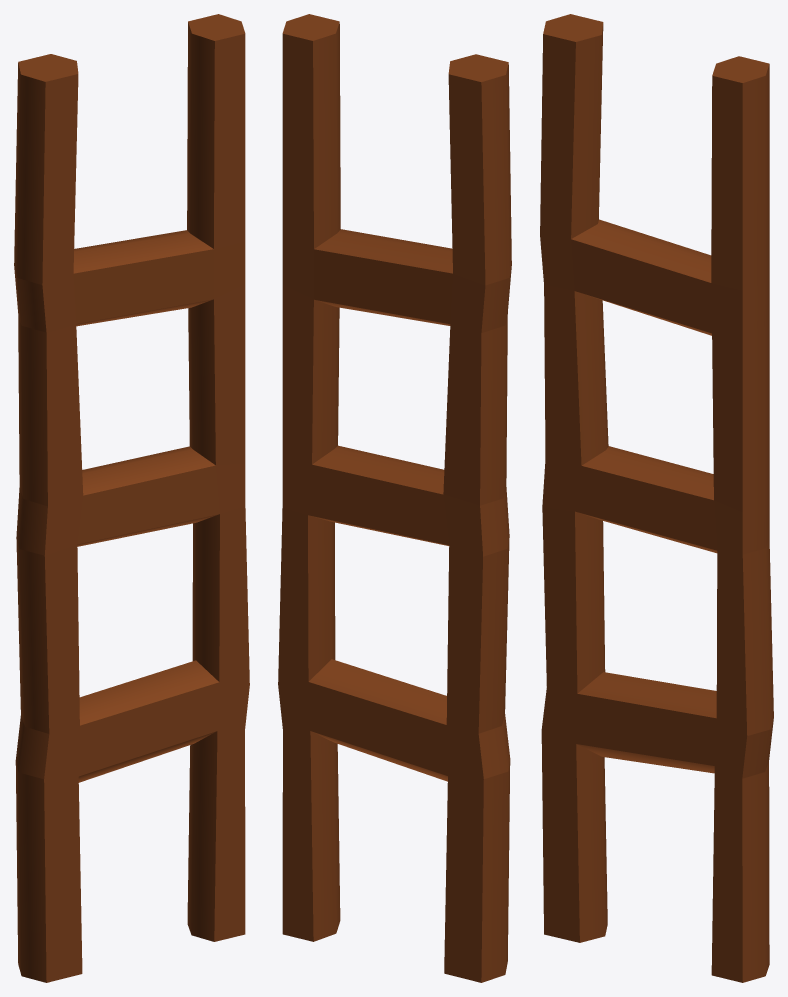
Rendered from intro_prop(stairs)_01.FBX.
3 renders of one model, left to right at view 1: azimuth 30°, elevation 25°; view 2: azimuth 150°, elevation 25°; view 3: azimuth 330°, elevation 25°, orthographic.
Visible parts, largest first — view 1: stairs_prop001; view 2: stairs_prop001; view 3: stairs_prop001.
Boxes of the visible parts, x1=… form: stairs_prop001: x1=14, y1=14, x2=249, y2=982; stairs_prop001: x1=278, y1=14, x2=511, y2=982; stairs_prop001: x1=540, y1=14, x2=773, y2=982.
Size of what is drawn, in the model's own units: 28.42 by 107 by 5.89.
